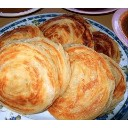parota: (1, 42, 60, 112), (63, 45, 114, 121), (41, 15, 94, 59)
